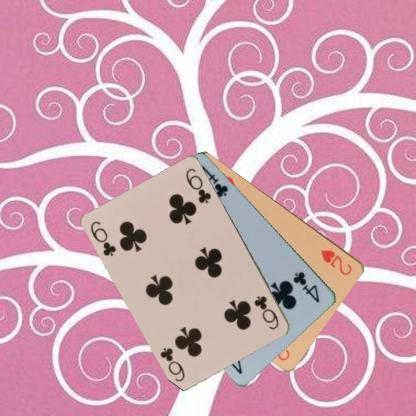2h: (318, 247, 354, 276)
4c: (290, 269, 322, 304)
6c: (88, 218, 118, 258), (251, 293, 280, 331)
